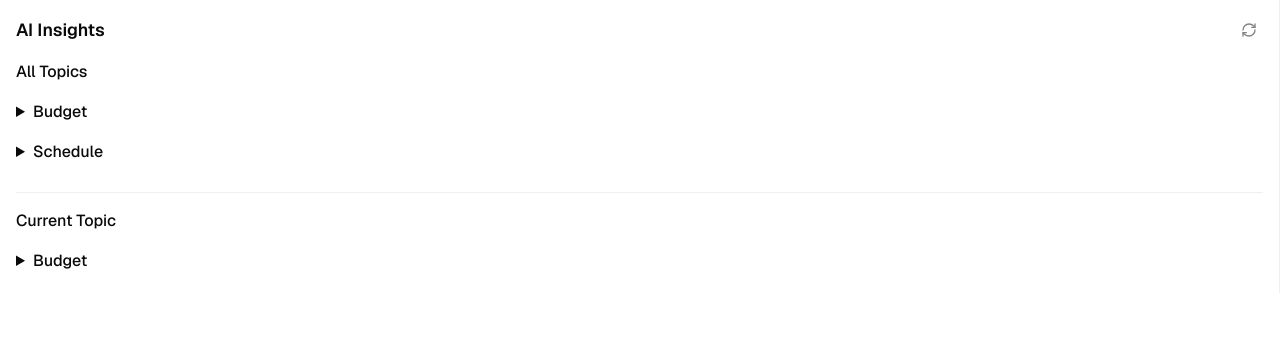
Test: InsightsPanel › shows independent current and all topics, with details collapsed initially
expect the heading "AI Insights" is shown: met, box [16,17,105,43]
Step 1. Click the heading "Budget" below "Current Topic" → coordinates (60, 260), box [33,250,87,271]
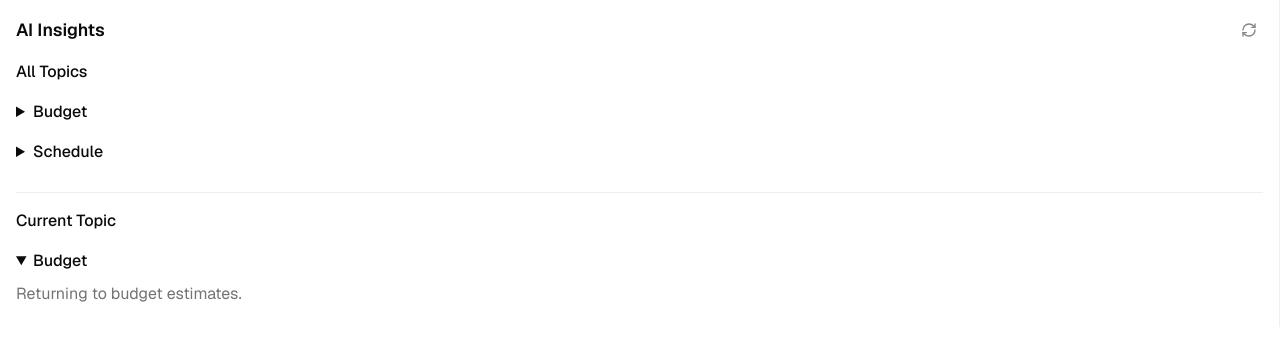
expect the text "Returning to budget estimates." is shown: met, box [16,283,242,304]
